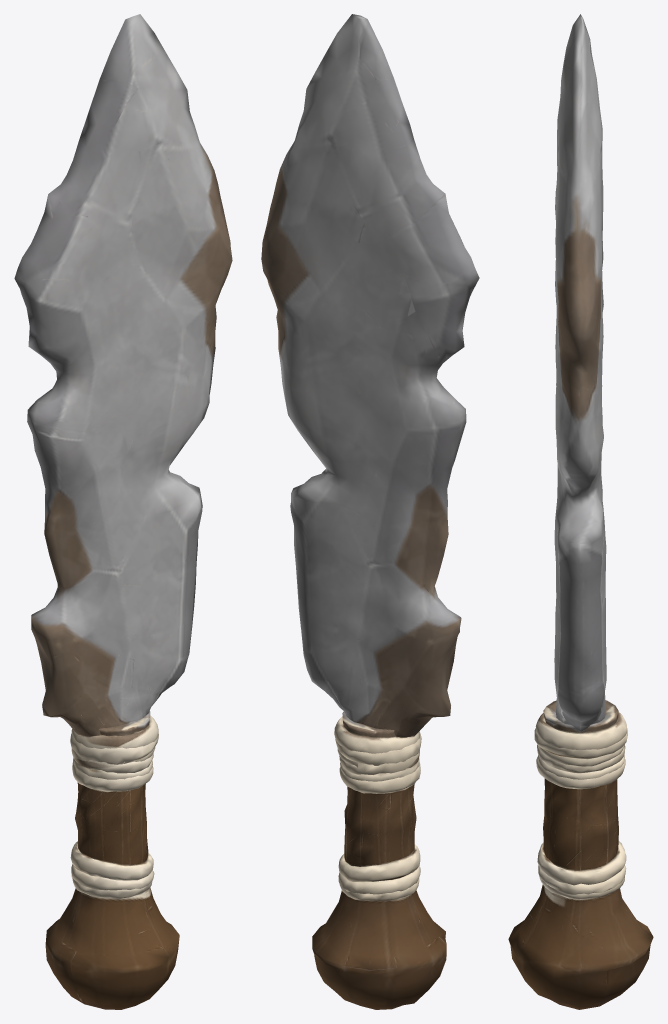
The model's file is 02_石片短剑.fbx.
The picture shows the model from 3 angles, left to right: view 1: azimuth 30°, elevation 25°; view 2: azimuth 150°, elevation 25°; view 3: azimuth 270°, elevation 25°; orthographic projection.
Parts seen in each view (by area): view 1: Mesh_0; view 2: Mesh_0; view 3: Mesh_0.
Boxes of the visible parts, <box> form: Mesh_0: <box>14,14,232,1009</box>; Mesh_0: <box>261,14,479,1009</box>; Mesh_0: <box>508,14,653,1009</box>.
Bounding box in the file's own units: 46.29 × 200 × 26.49.
1 material, 1 textured.
